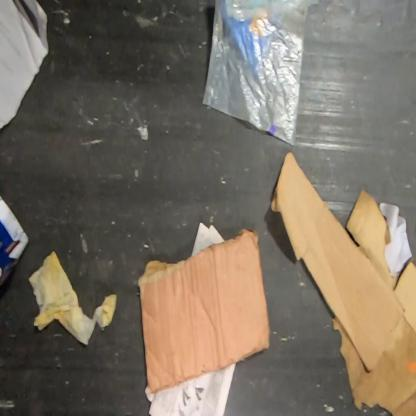cardboard: (271, 150, 406, 373), (136, 227, 271, 395), (331, 187, 415, 415), (0, 194, 29, 292)
soft_plastic: (200, 0, 324, 148)
